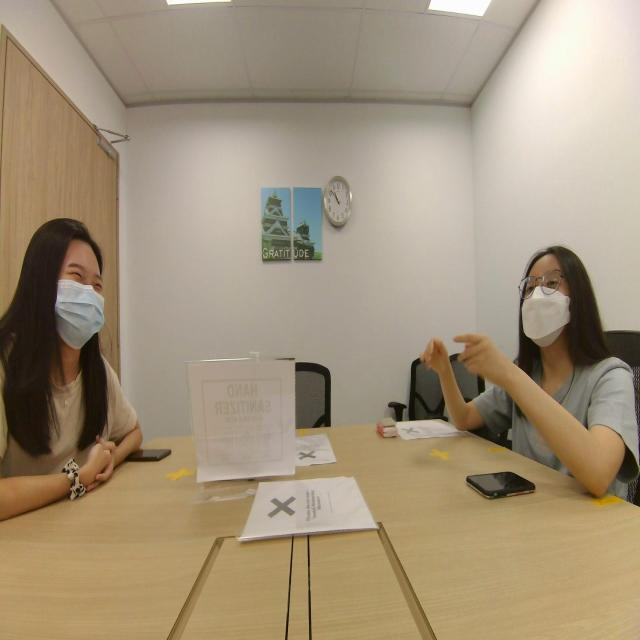obstacle: (4, 161, 133, 461), (488, 192, 620, 448)
